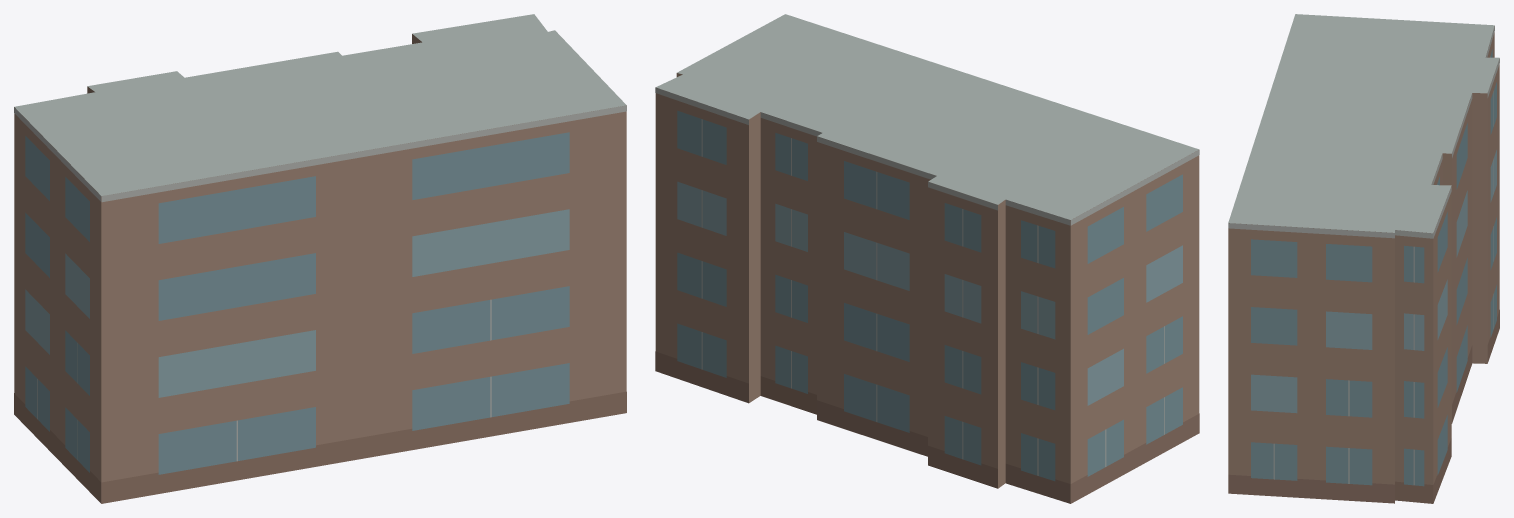
Rendered from survey-upis-32566748.glb.
3 renders of one model, left to right at view 1: azimuth 30°, elevation 25°; view 2: azimuth 150°, elevation 25°; view 3: azimuth 270°, elevation 25°, orthographic. The views are drawn at different scales.
Visible parts, largest first — view 1: survey-upis-32566748.tmp; view 2: survey-upis-32566748.tmp; view 3: survey-upis-32566748.tmp.
Part boxes in pixels (box(x1,y1,x2,y2)): survey-upis-32566748.tmp: box(14, 14, 626, 503); survey-upis-32566748.tmp: box(655, 14, 1199, 503); survey-upis-32566748.tmp: box(1228, 14, 1499, 503).
Bounding box in the file's own units: 21.23 × 12.2 × 11.11.
